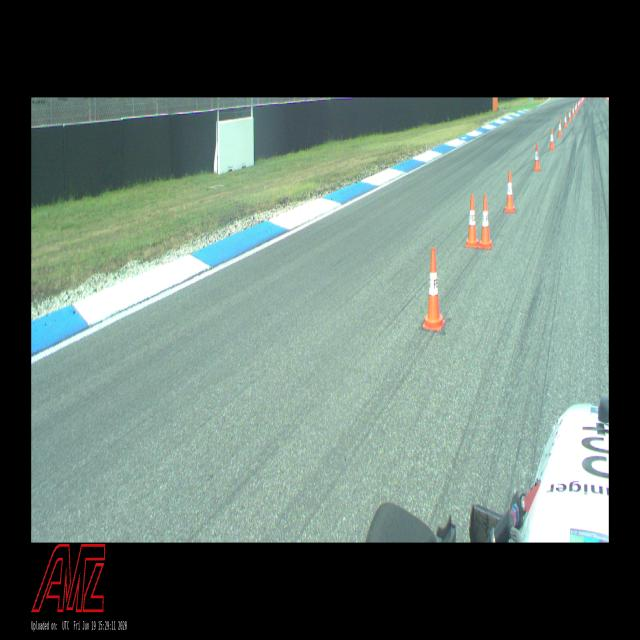orange_cone: (423, 248, 445, 330), (479, 195, 493, 248), (466, 195, 478, 247), (505, 170, 515, 212), (533, 143, 541, 171), (550, 128, 554, 150), (558, 120, 562, 136), (564, 114, 568, 128), (568, 108, 572, 122), (572, 106, 574, 116), (575, 105, 577, 113), (576, 102, 577, 111), (578, 101, 579, 108), (580, 99, 580, 106)
